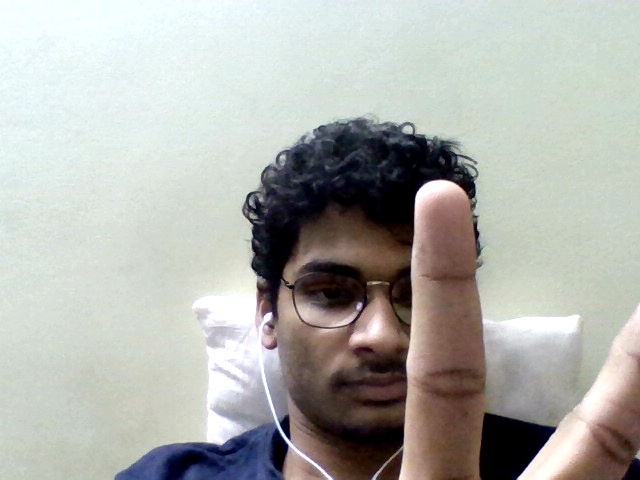ThankYou: (401, 182, 640, 480)
